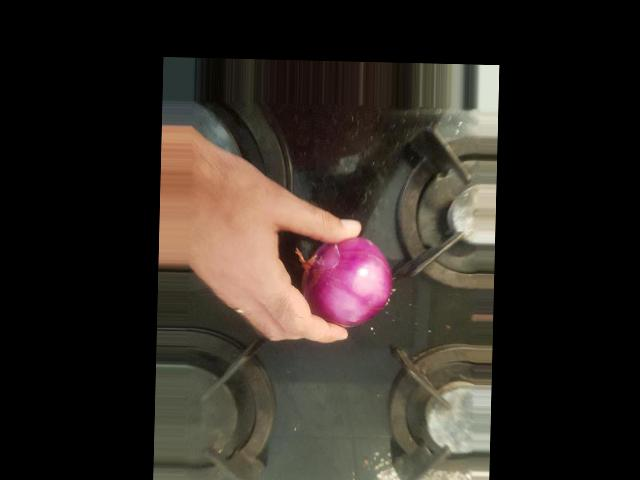onion: (345, 322, 442, 403)
